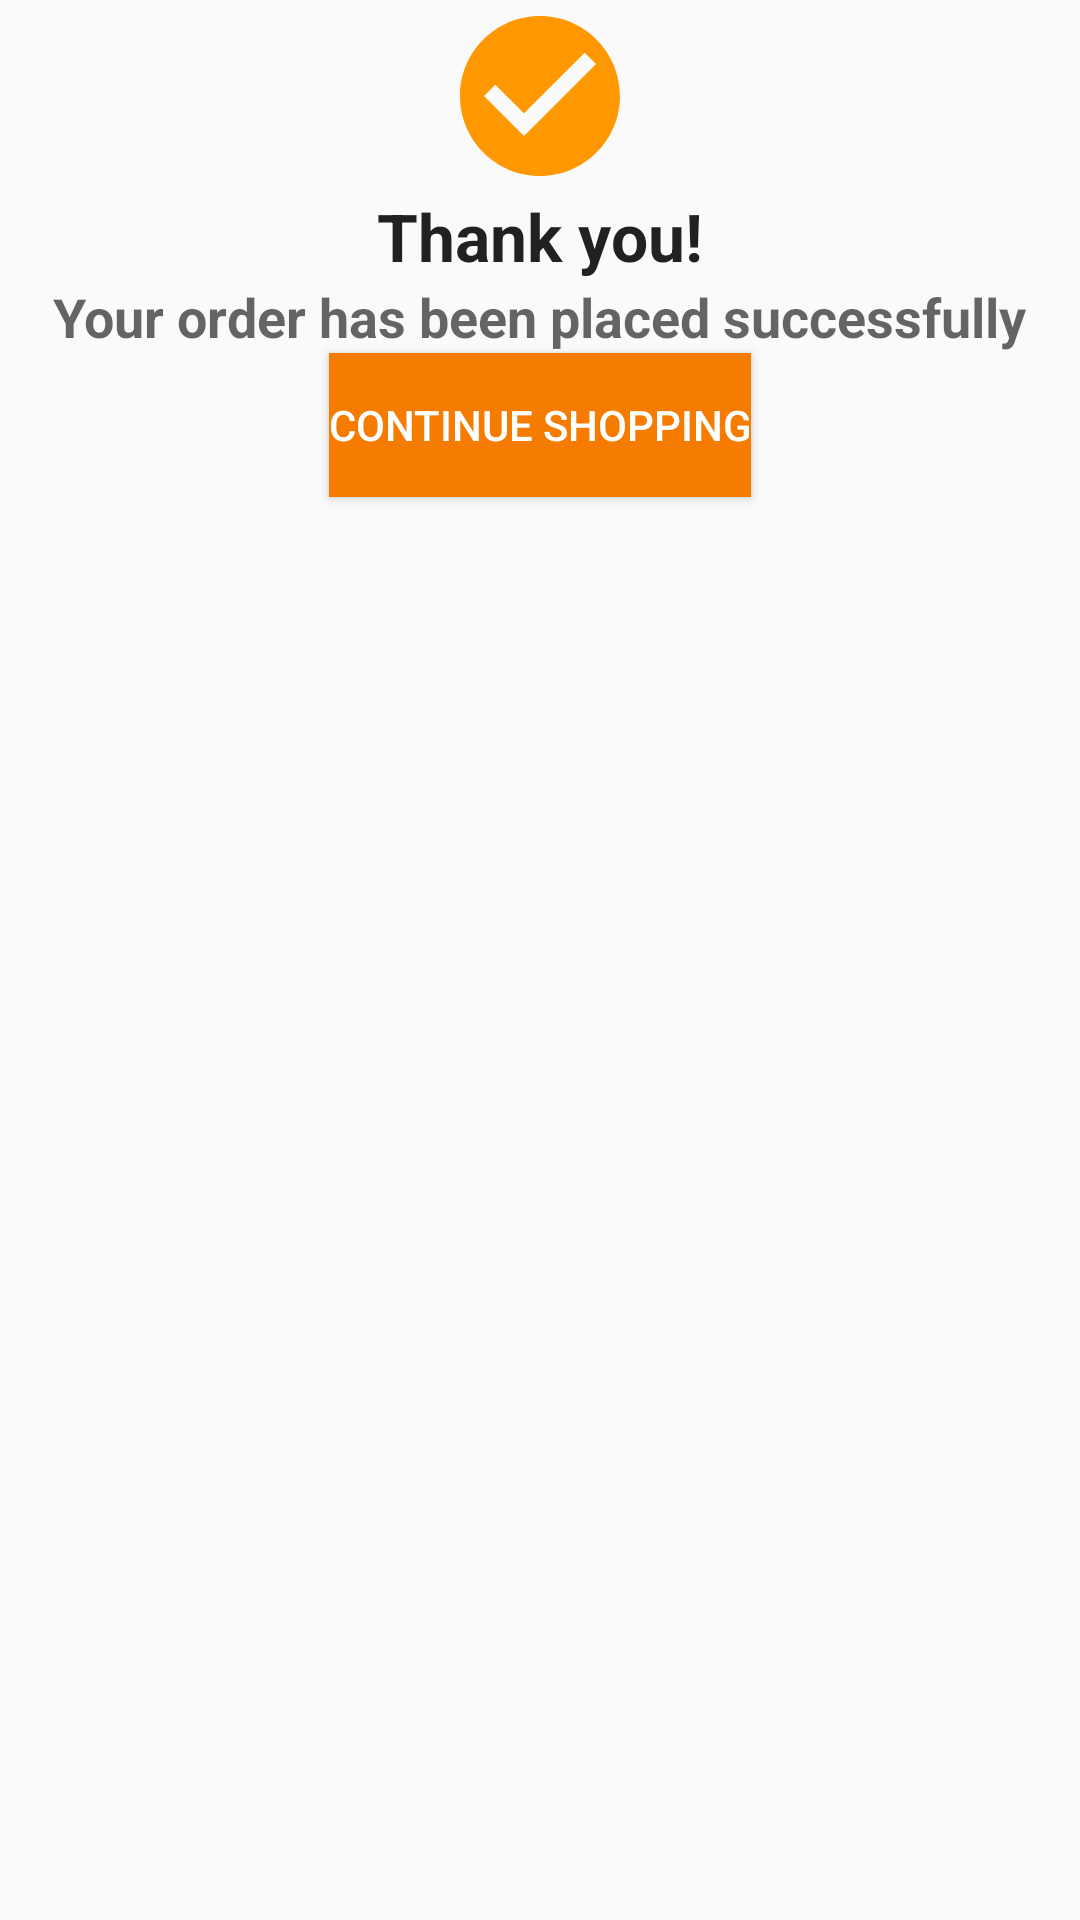

Locate icon controls on the screen. Image size 1080px x 1920px, boxes as [x1=x1, y1=y1, x2=x2, y2=y2].
done: [x1=459, y1=16, x2=620, y2=176]
